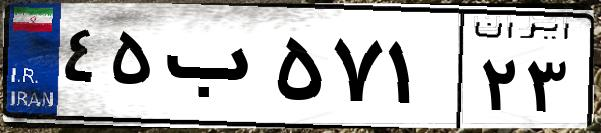1: (385, 28, 445, 110)
2: (475, 38, 525, 113)
3: (525, 38, 570, 115)
4: (57, 26, 110, 100)
5: (270, 28, 330, 110), (110, 28, 158, 98)
7: (330, 28, 385, 110)
ب: (158, 20, 270, 120)
